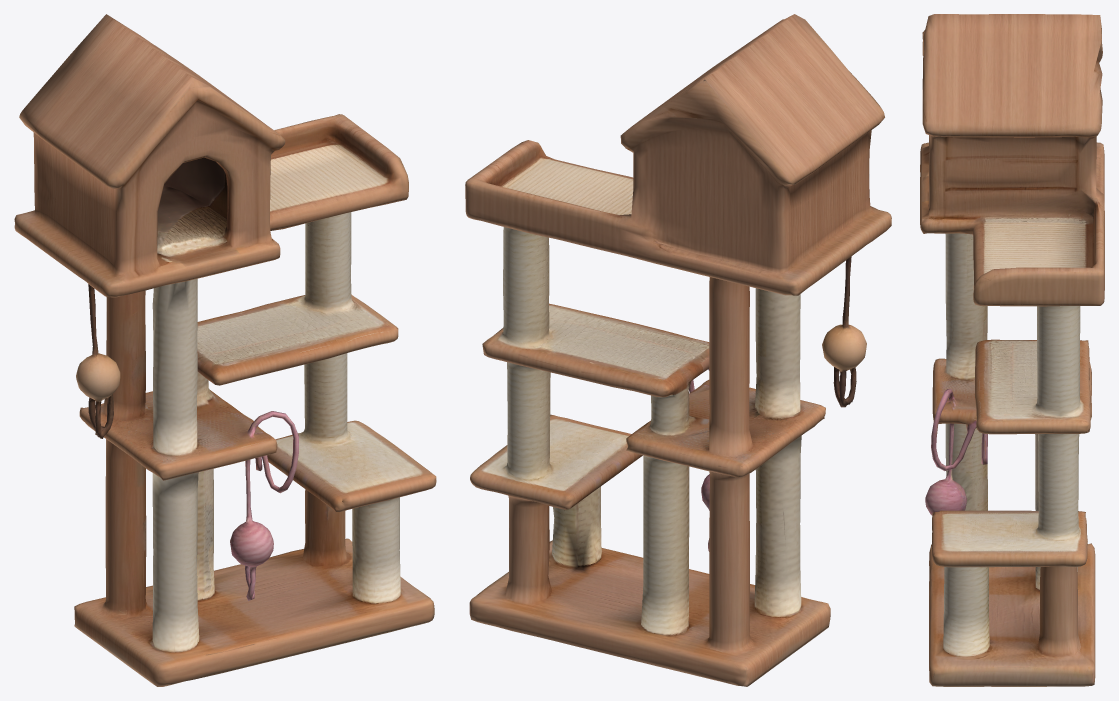
The model's file is CatPlayground.glb.
3 renders of one model, left to right at view 1: azimuth 30°, elevation 25°; view 2: azimuth 150°, elevation 25°; view 3: azimuth 270°, elevation 25°, orthographic. The views are drawn at different scales.
Size of the model in its own units: 1.18 by 2 by 0.5921.
1 material, 1 textured.
